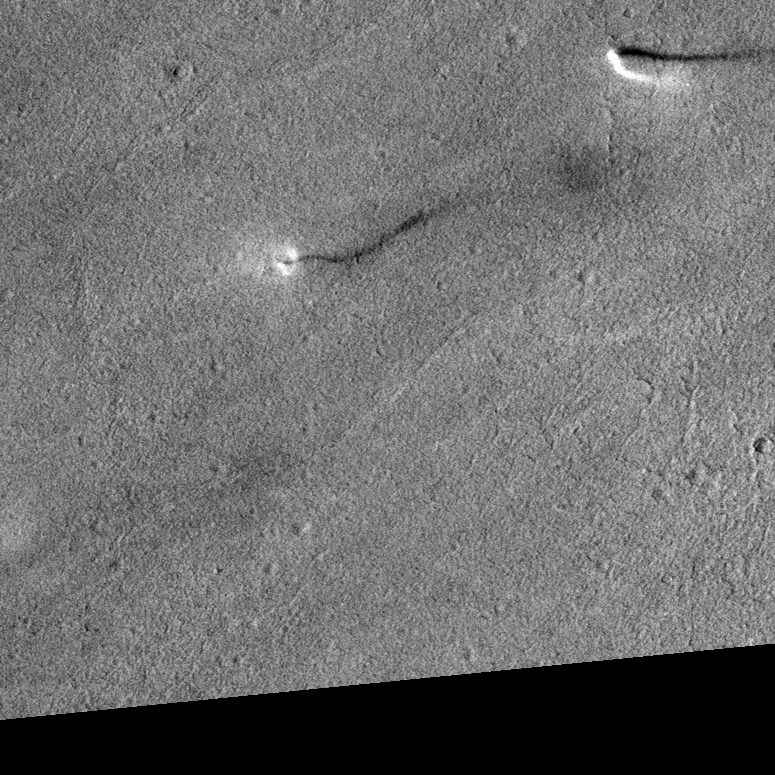dust_devil: (274, 209, 436, 279), (606, 44, 760, 91)
